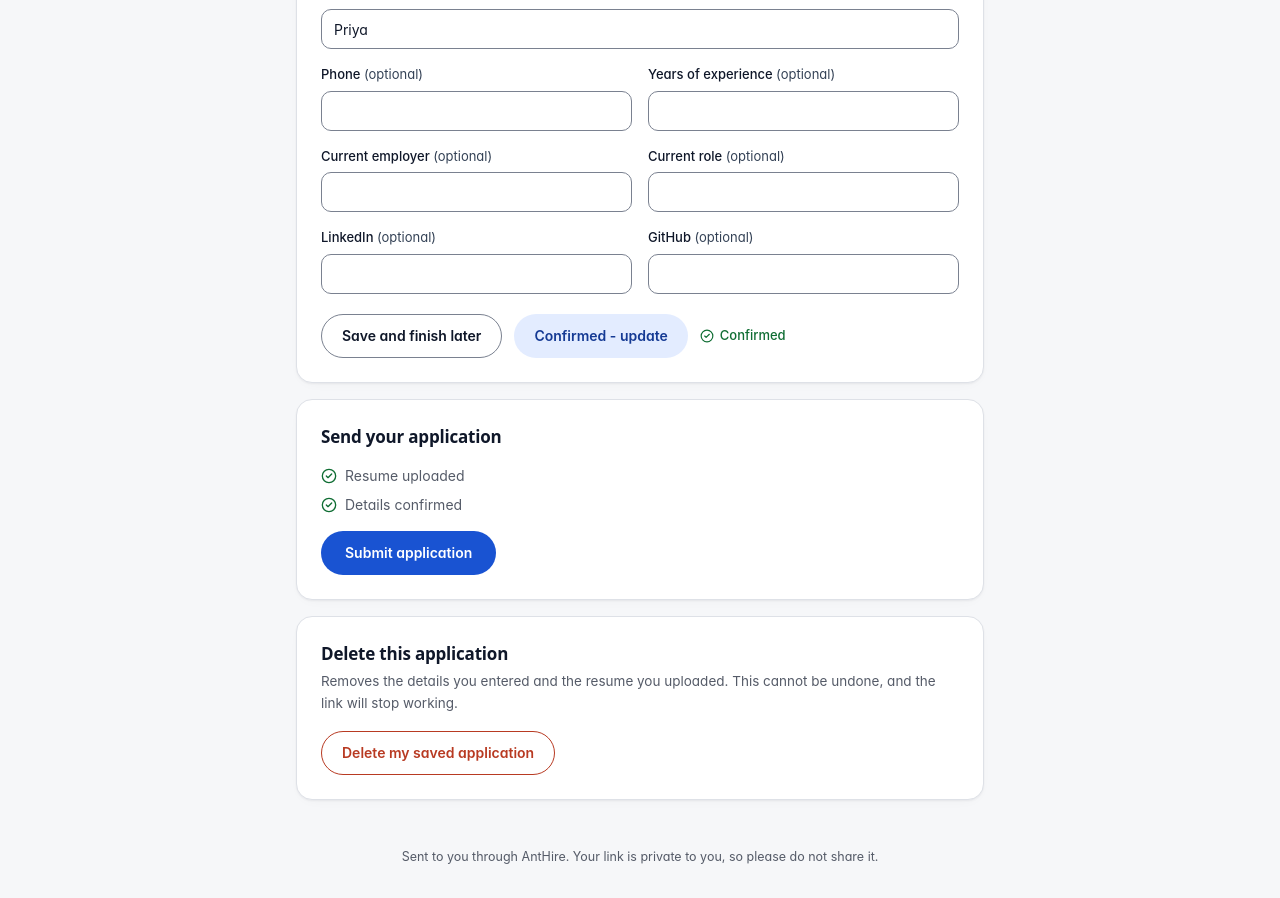
Scenario: submitting › confirms the application once it lands
The image size is (1280, 898).
(page scrolled)
Click the button "Submit application" at {"x": 409, "y": 553}, box [321,531,496,575]
(page scrolled)
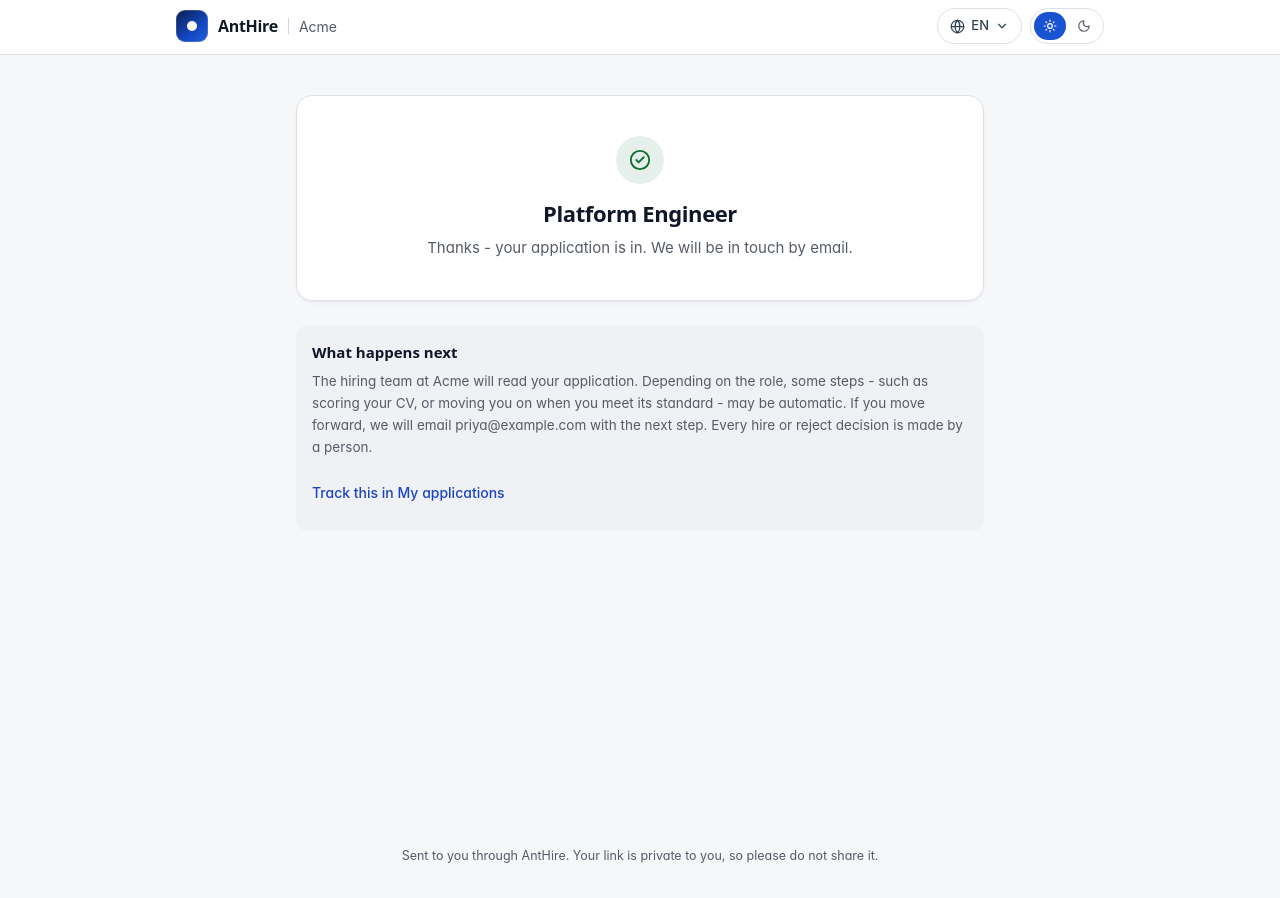
Now the text "your application is in" is shown, box [427,238,853,256]
Now the element "What happens next" shows "will read your application", box [312,373,963,455]
